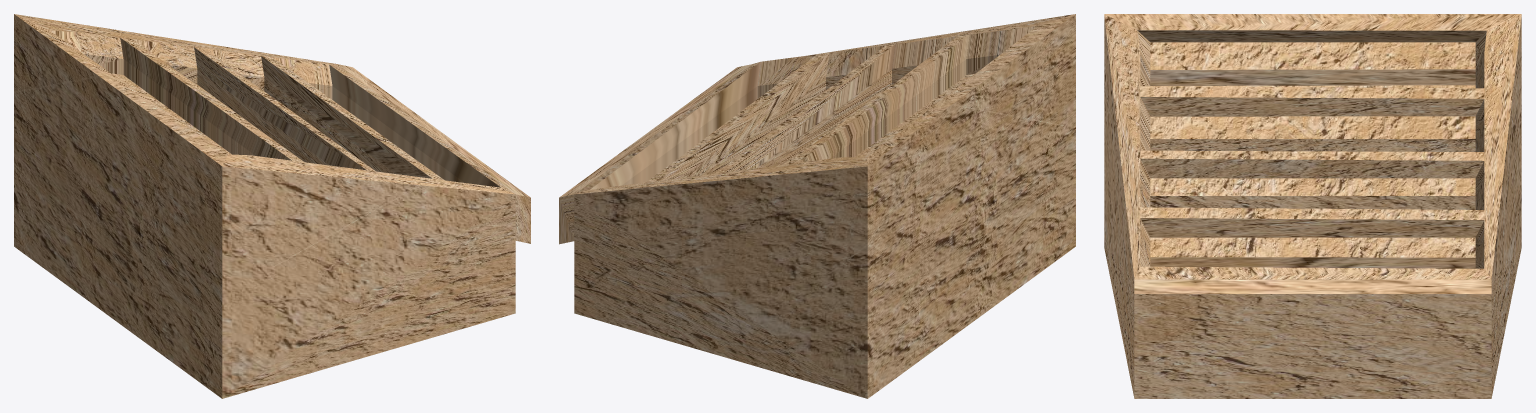
Rendered from stands.fbx.
The picture shows the model from 3 angles, left to right: view 1: azimuth 30°, elevation 25°; view 2: azimuth 150°, elevation 25°; view 3: azimuth 270°, elevation 25°; orthographic projection.
Visible parts, largest first — view 1: Cube; view 2: Cube; view 3: Cube.
Part boxes in pixels (x1=…): Cube: x1=14, y1=14, x2=530, y2=398; Cube: x1=559, y1=14, x2=1075, y2=398; Cube: x1=1104, y1=14, x2=1521, y2=398.
Size of the model in its own units: 210 by 145 by 234.
1 material, 1 textured.
